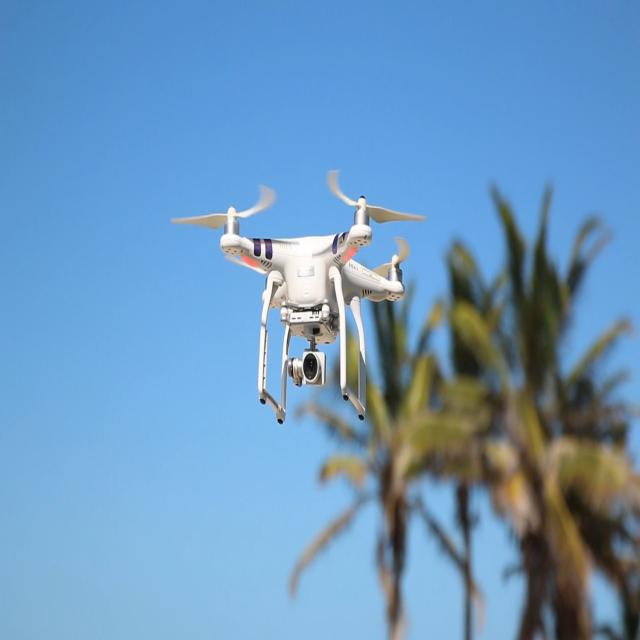Drone: (175, 150, 437, 419)
